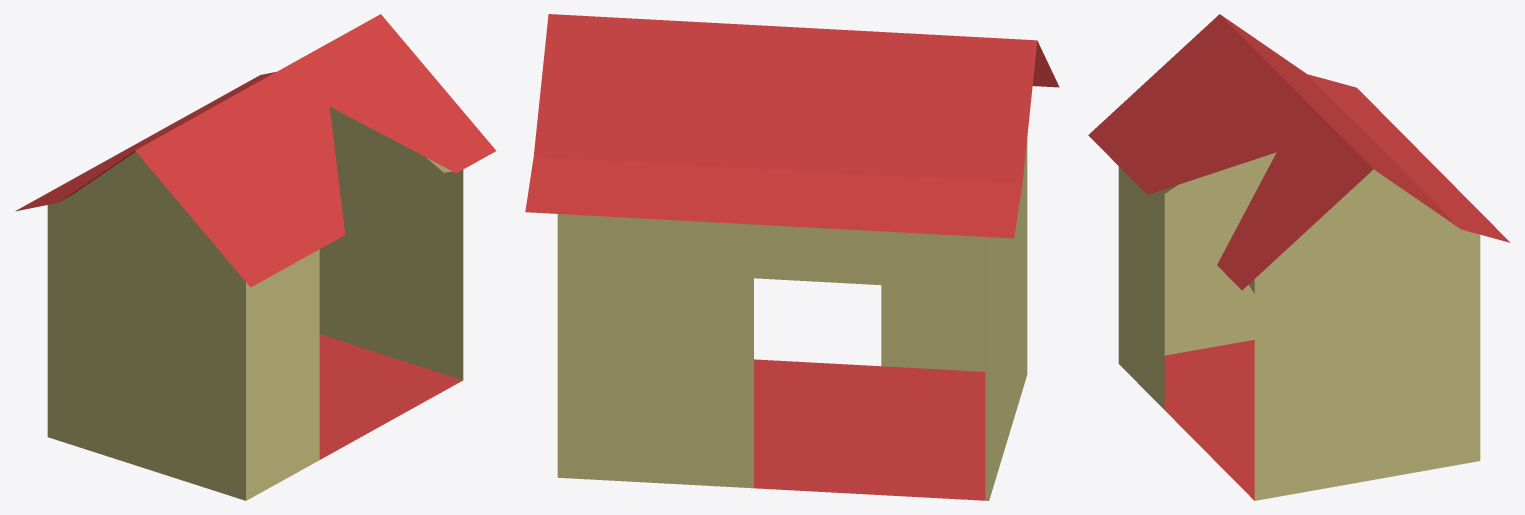
3 views of the same model, side by side, from view 1: azimuth 30°, elevation 25°; view 2: azimuth 150°, elevation 25°; view 3: azimuth 270°, elevation 25° (orthographic). The views are drawn at different scales.
Bounding box in the file's own units: 15.44 × 13.6 × 11.4.
